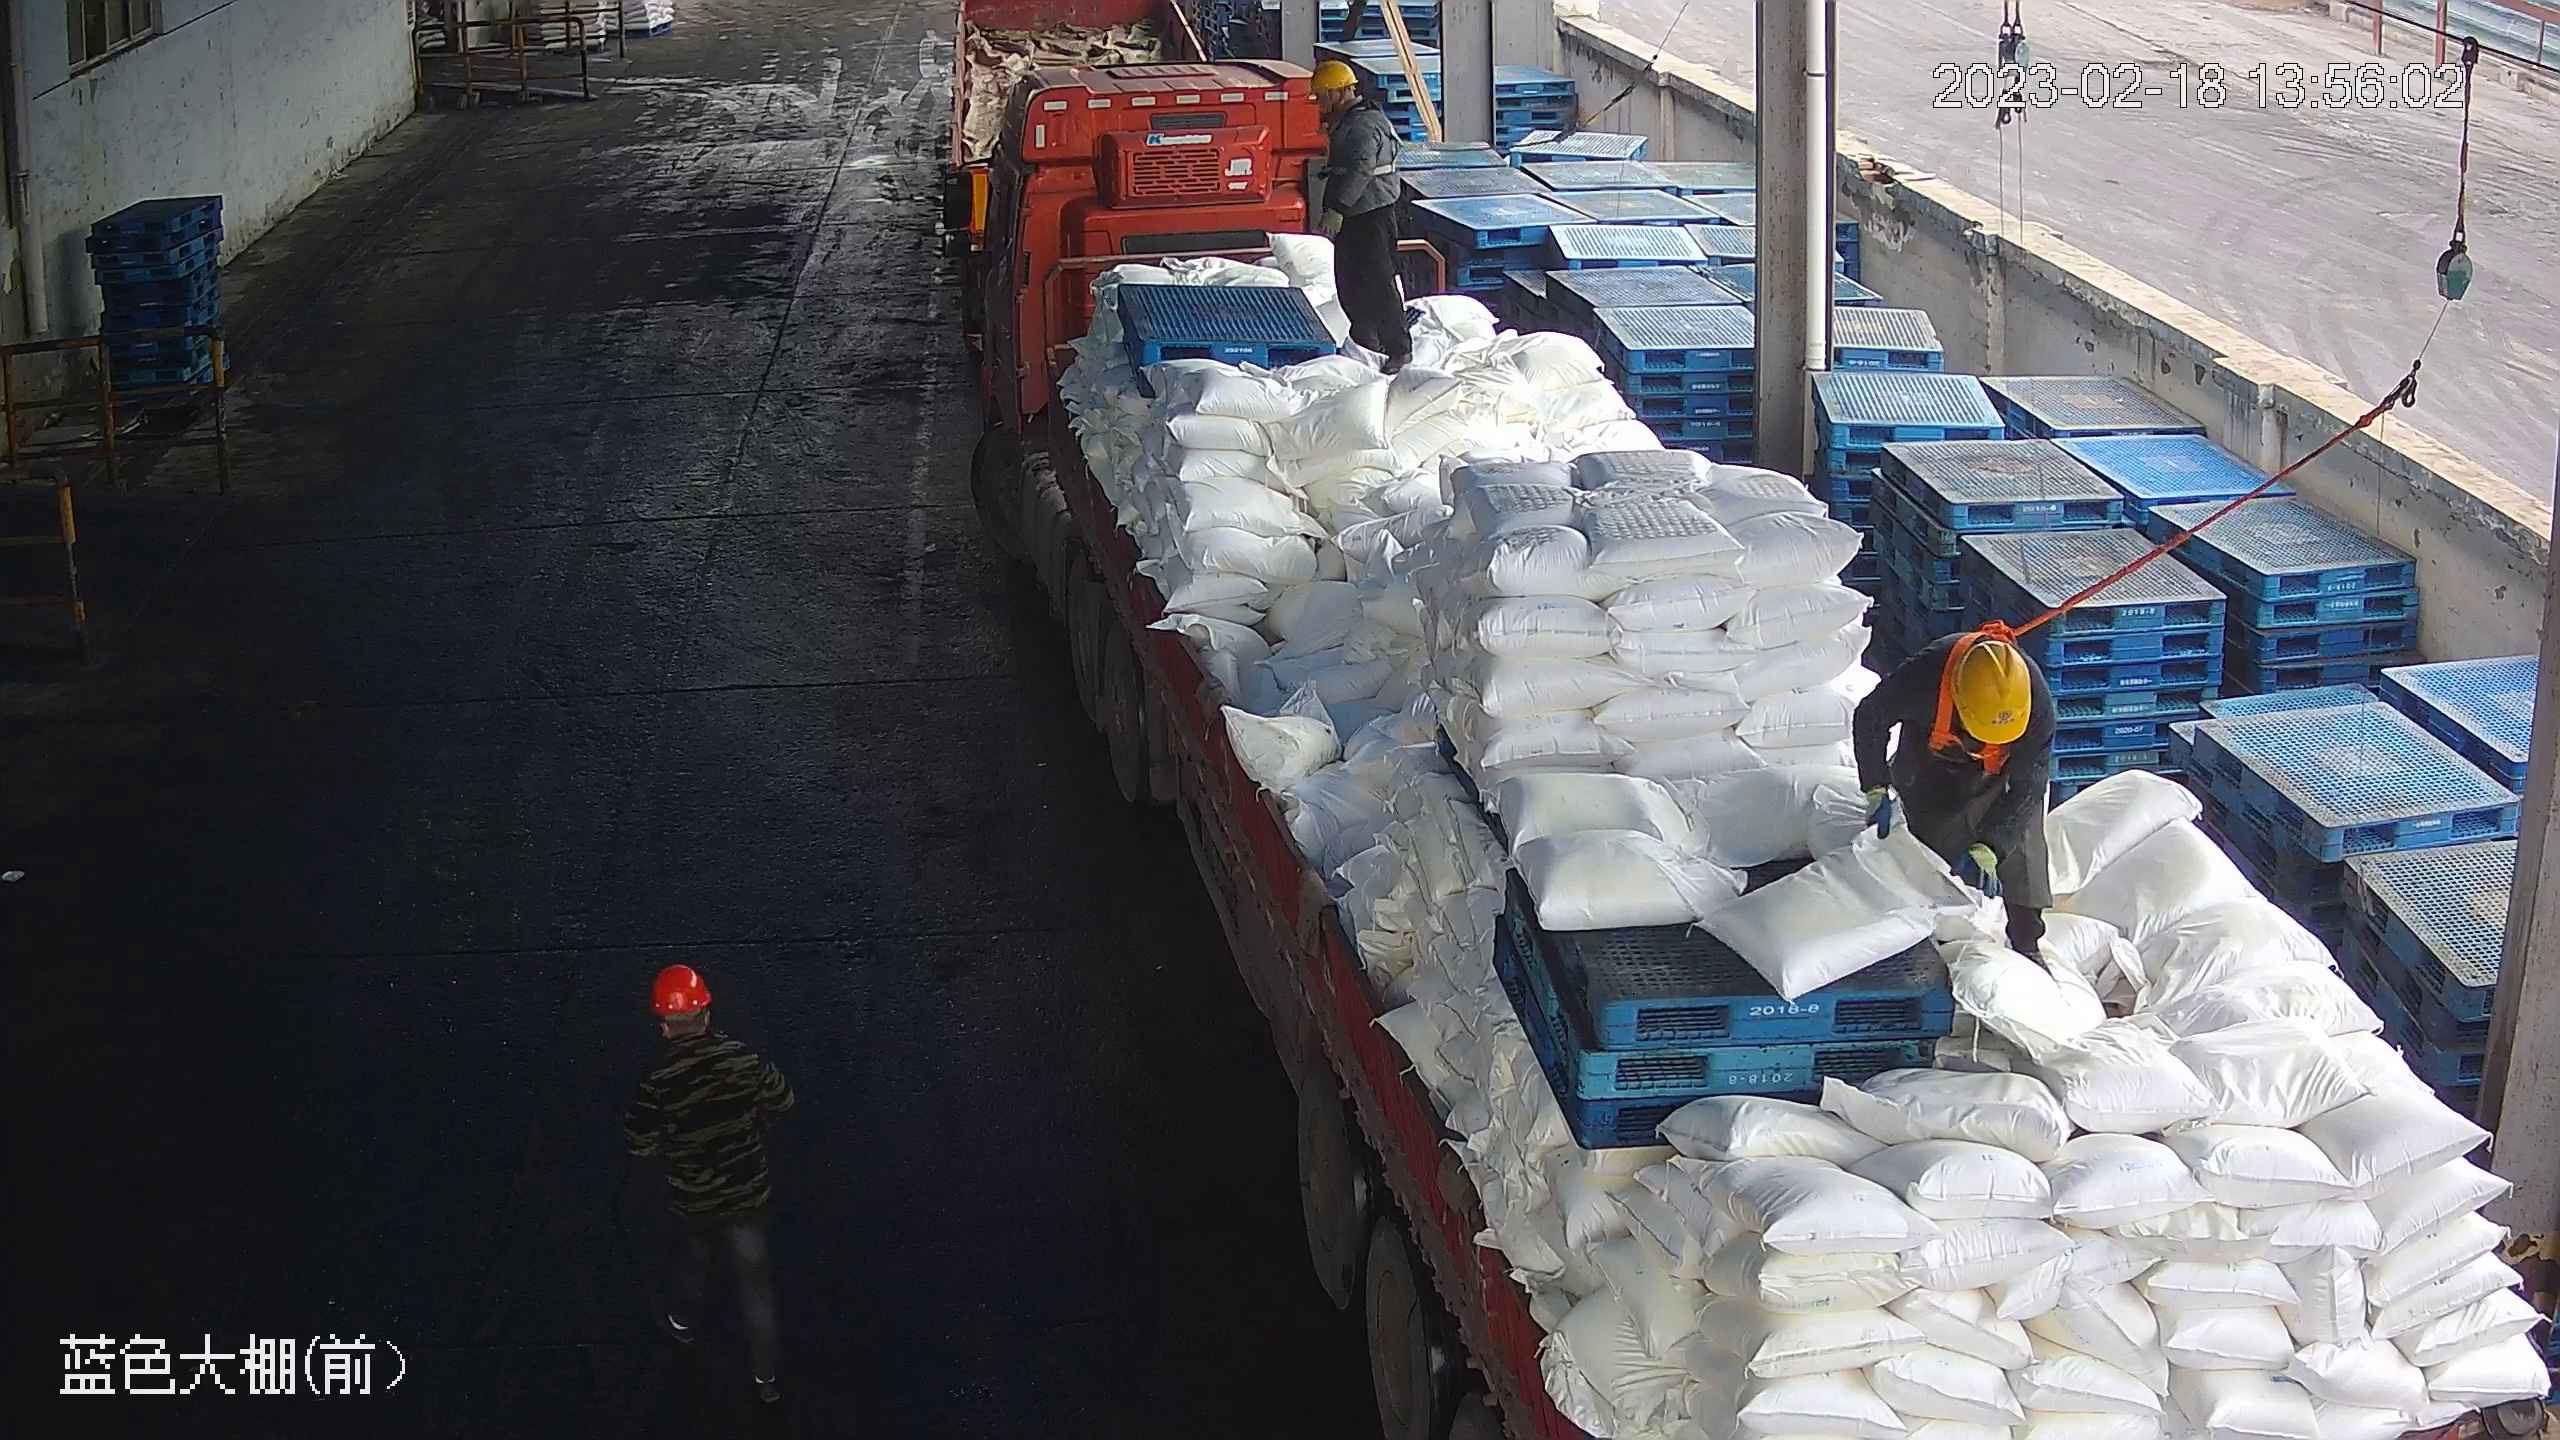belt: (1332, 101, 1409, 184)
head: (632, 961, 781, 1114), (1901, 623, 2040, 760), (1307, 58, 1399, 150)
helmet: (1942, 623, 2036, 747), (643, 956, 716, 1014), (1307, 58, 1361, 93)
people: (623, 958, 796, 1407), (1850, 625, 2064, 972), (1303, 56, 1425, 380)
truck: (944, 57, 2557, 1440)
